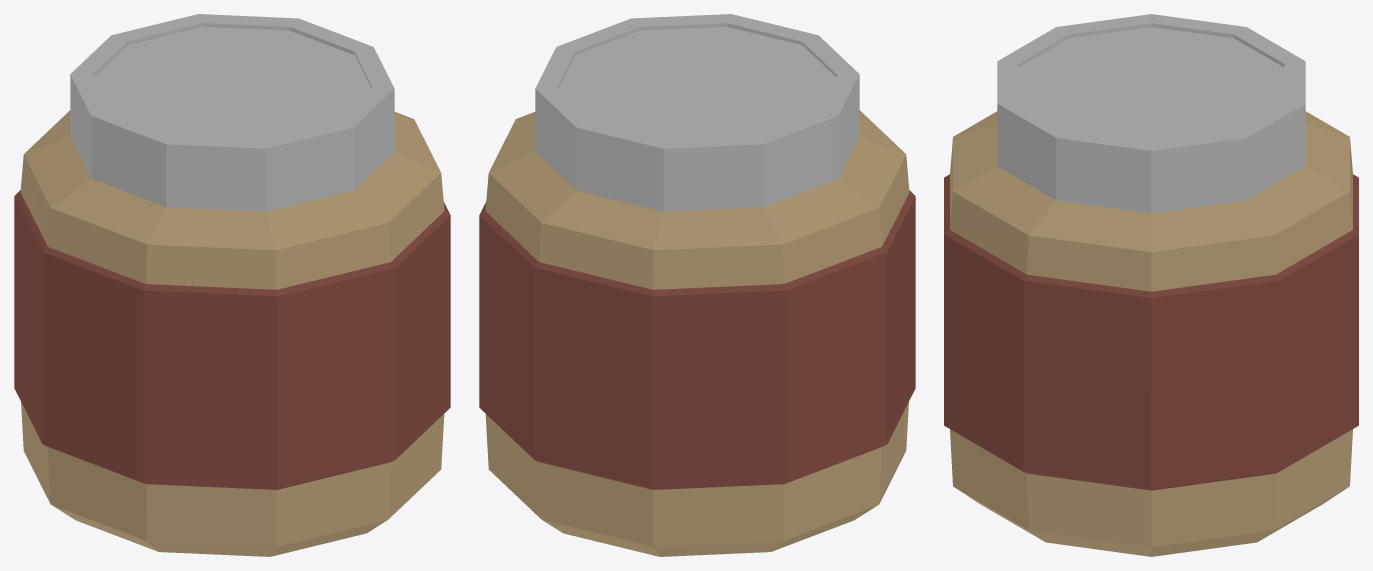
The model's file is Jar_Large.glb.
3 views of the same model, side by side, from view 1: azimuth 30°, elevation 25°; view 2: azimuth 150°, elevation 25°; view 3: azimuth 270°, elevation 25° (orthographic).
Visible parts, largest first — view 1: Jar_Large; view 2: Jar_Large; view 3: Jar_Large.
Part boxes in pixels (box(x1,y1,x2,y2)): Jar_Large: box(14, 14, 450, 556); Jar_Large: box(479, 14, 915, 556); Jar_Large: box(944, 14, 1358, 556).
Bounding box in the file's own units: 0.6333 × 0.6384 × 0.6022.
